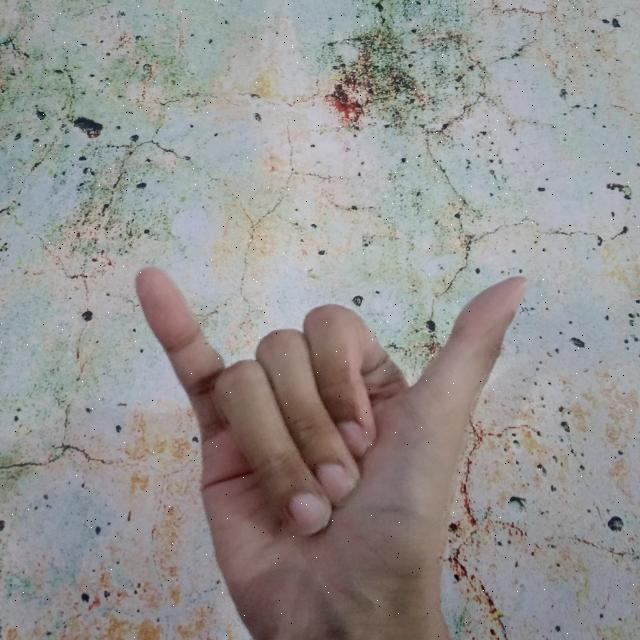Y: (129, 242, 537, 640)
